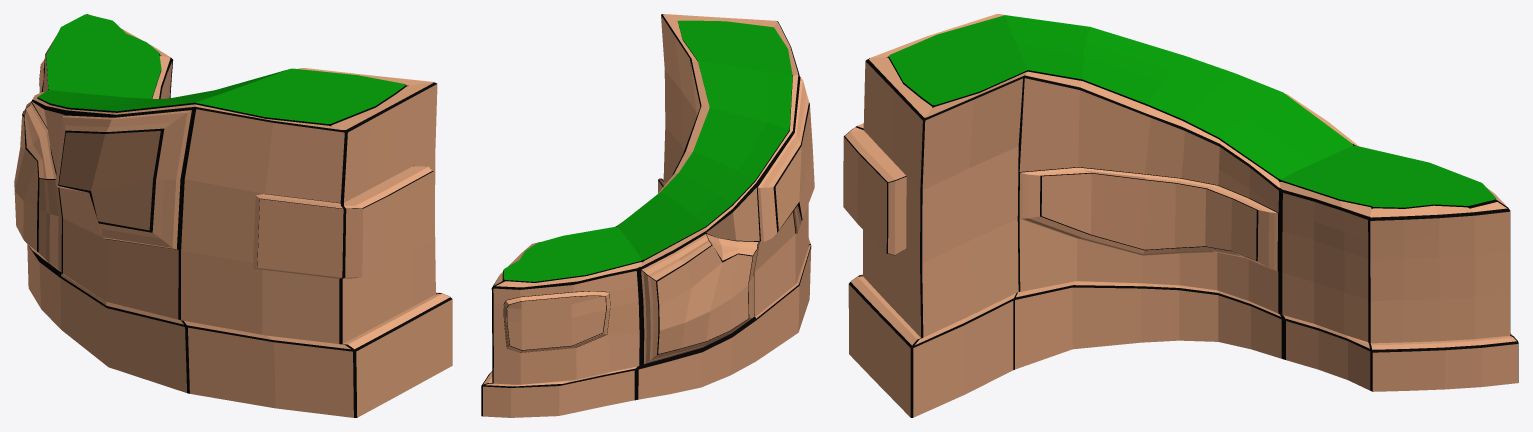
The model's file is CardboardPlatform19.fbx.
3 renders of one model, left to right at view 1: azimuth 30°, elevation 25°; view 2: azimuth 150°, elevation 25°; view 3: azimuth 270°, elevation 25°, orthographic. The views are drawn at different scales.
Parts seen in each view (by area): view 1: Cube.036; view 2: Cube.036; view 3: Cube.036.
Part boxes in pixels (x1=…): Cube.036: x1=14, y1=14, x2=452, y2=417; Cube.036: x1=481, y1=14, x2=814, y2=417; Cube.036: x1=843, y1=14, x2=1518, y2=417.
Bounding box in the file's own units: 2391 × 2368 × 4923.
